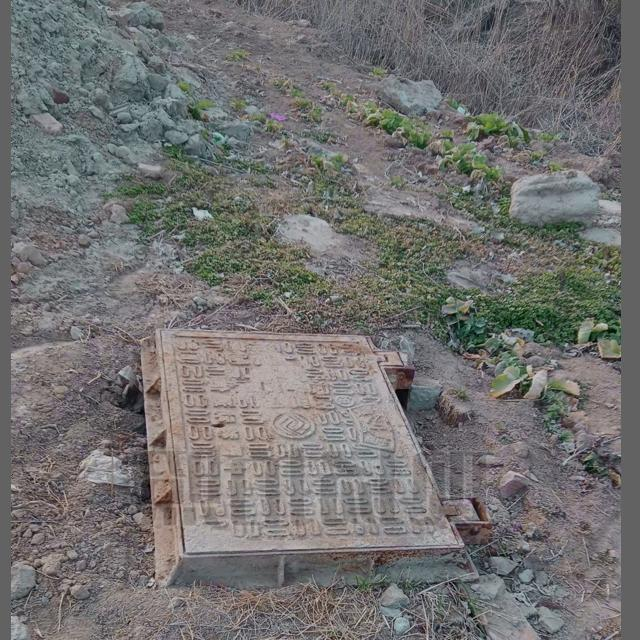circle: (129, 320, 493, 594)
